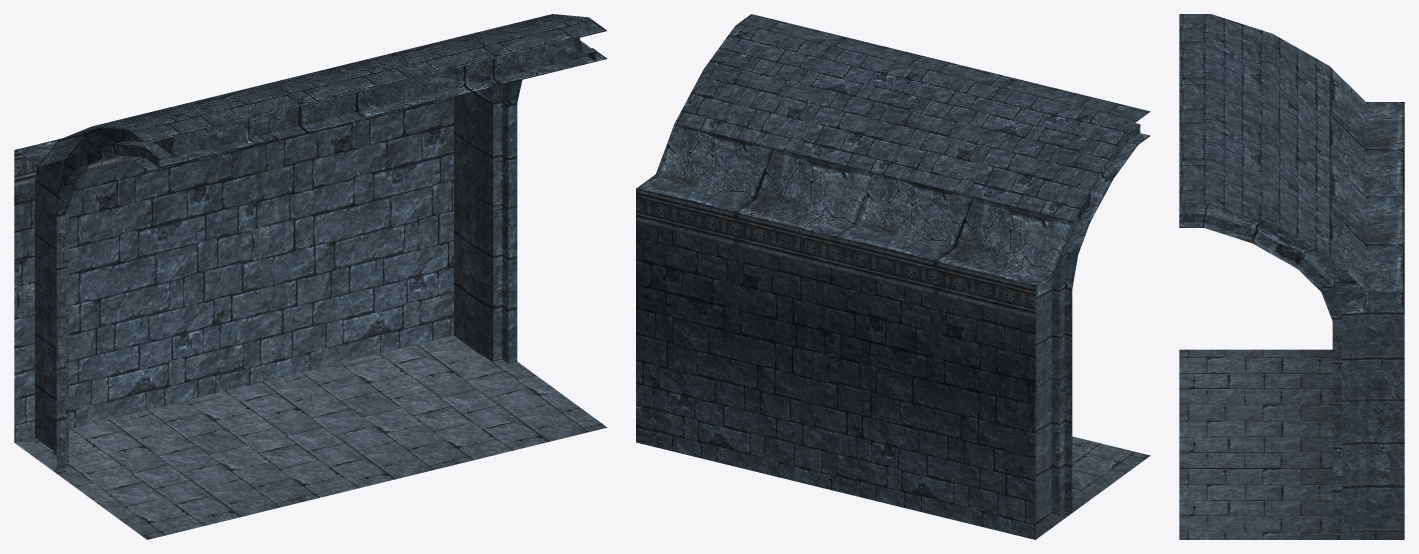
The model's file is wall_1.FBX.
3 renders of one model, left to right at view 1: azimuth 30°, elevation 25°; view 2: azimuth 150°, elevation 25°; view 3: azimuth 270°, elevation 25°, orthographic. The views are drawn at different scales.
Visible parts, largest first — view 1: wall_1; view 2: wall_1; view 3: wall_1.
Boxes of the visible parts, x1,y1,x2,y2 form: wall_1: [14, 14, 607, 539]; wall_1: [636, 14, 1150, 539]; wall_1: [1179, 14, 1404, 539].
Size of the model in its own units: 91.85 by 75.6 by 45.93.
